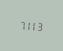one: (30, 19, 35, 31), (24, 19, 29, 30)
seven: (18, 19, 23, 30)
three: (36, 20, 41, 31)
